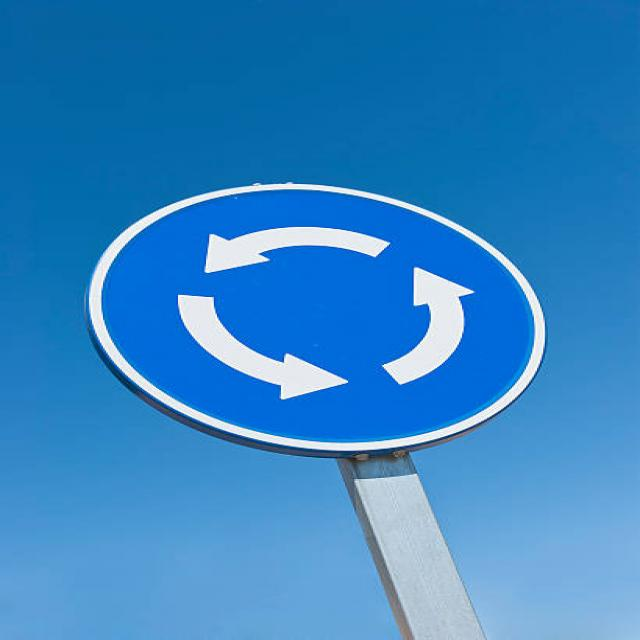round_about: (77, 178, 550, 459)
